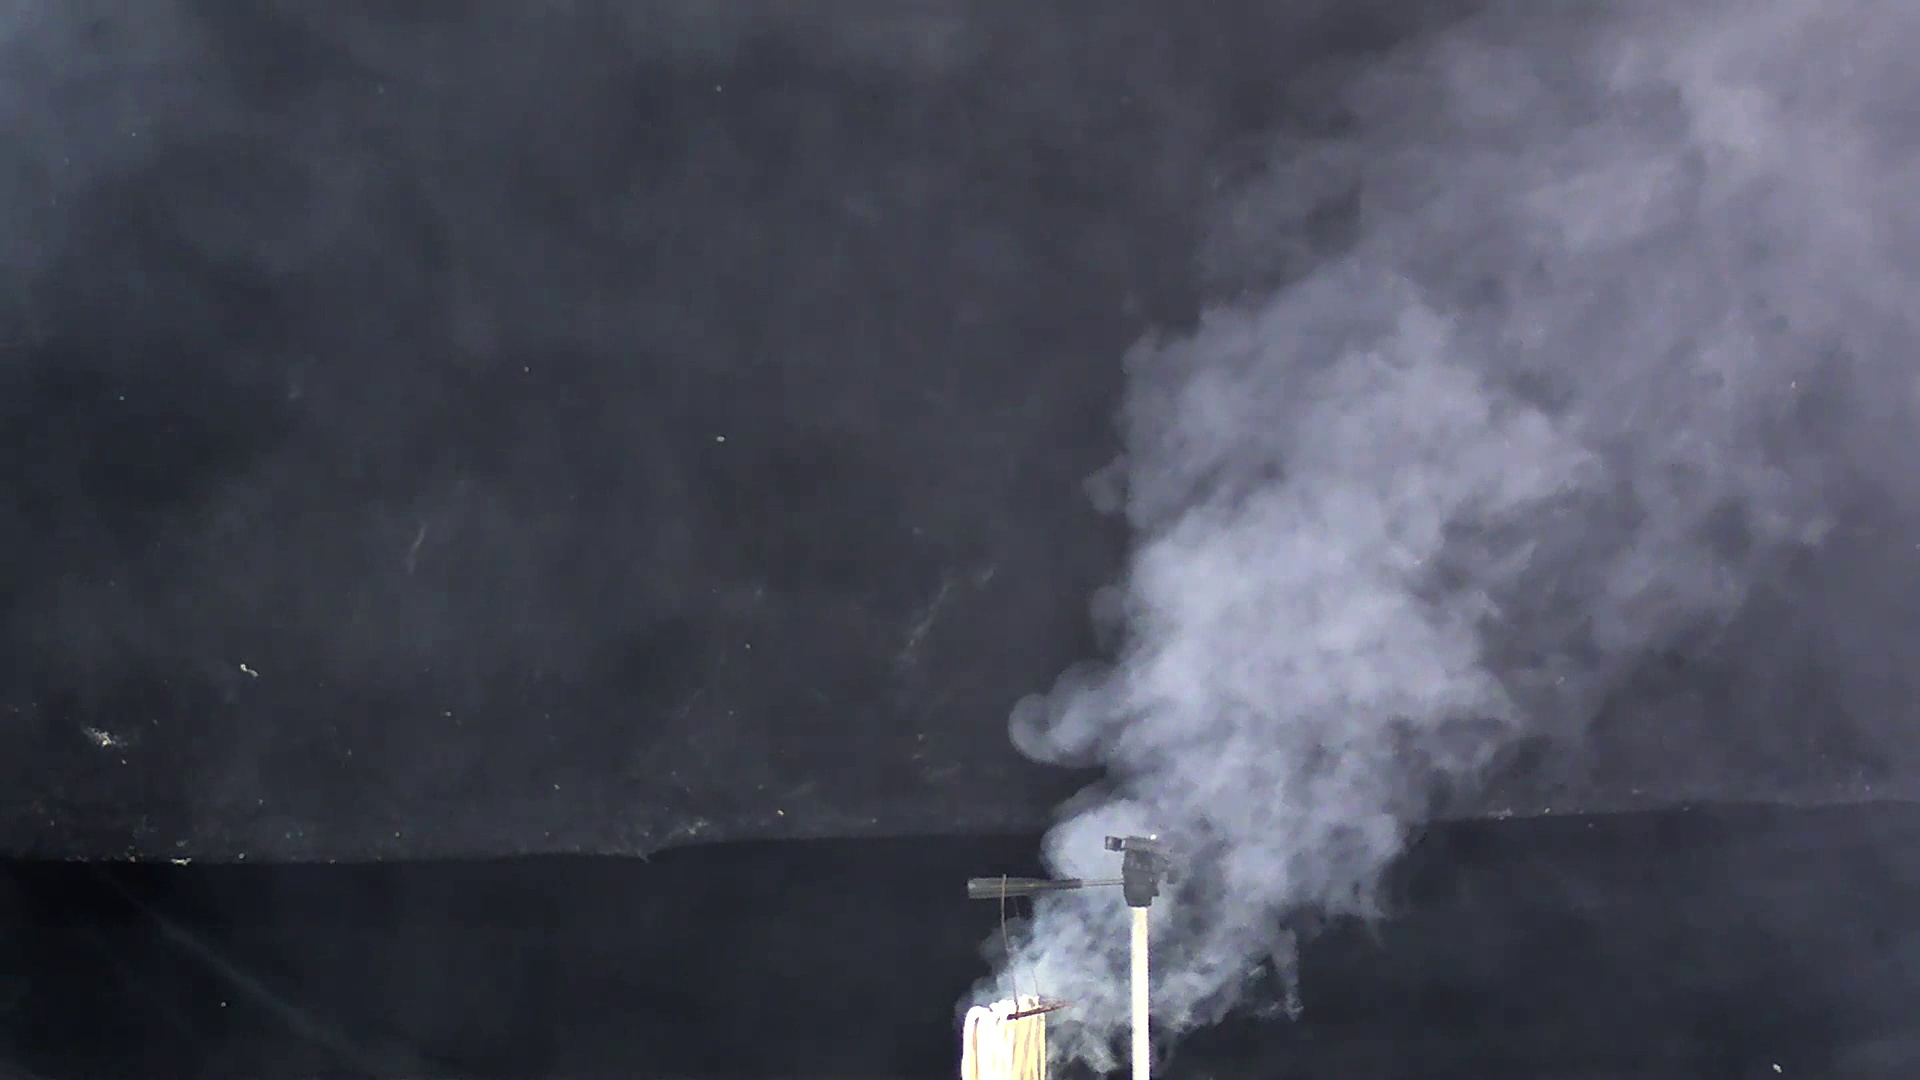smoke: (988, 107, 1788, 1048)
